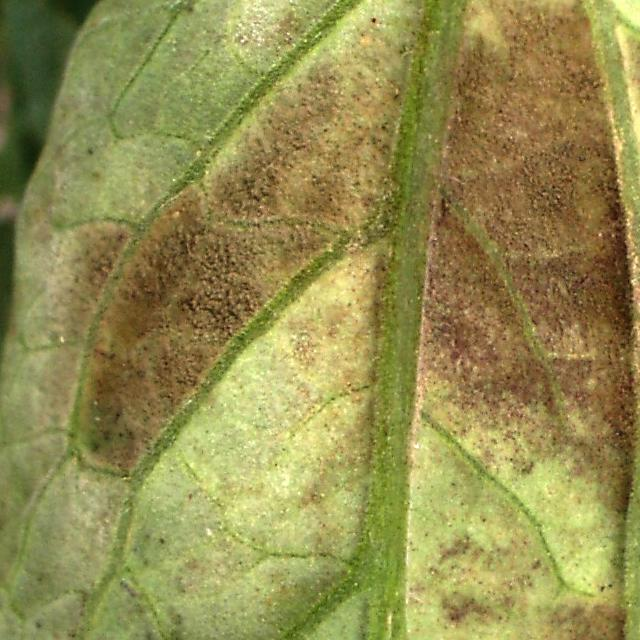Tomato mold leaf: (0, 0, 640, 640), (0, 0, 379, 102)
